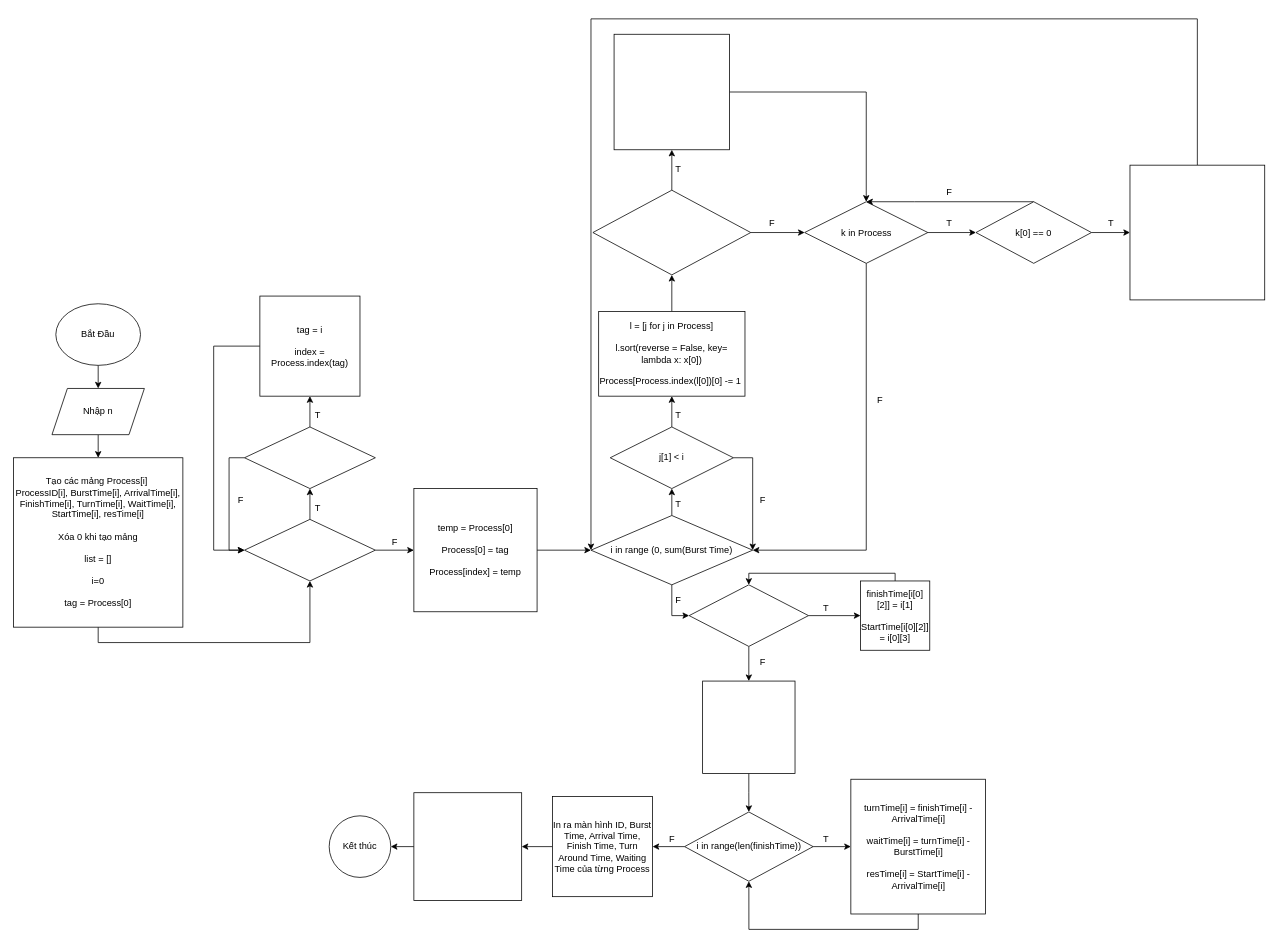
Image size: 1278x949. Some labels were removed from this diagram. The centre of each missing label's shape, as x and y in pixels:
"i in list" goes at point 748,615.
"i in Process" goes at point 309,550.
"if i[1] == 0" goes at point 309,457.
"Process[Process.index(l[0])][3] = i" goes at point 671,91.
"Process[Process.index(l[0])][3] == i" goes at point 671,232.
"StartTime[index] = 0" goes at point 748,726.
"t = Process.pop(Process.index(k) list.append([k, i+1]" goes at point 1197,232.
"tính và in Average Waiting Time, Average TurnAround Time, Average ResponseTime" goes at point 467,846.
